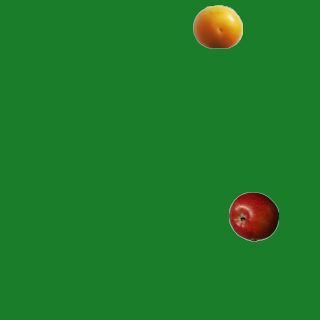Apple Braeburn: (228, 191, 278, 241)
Cherry Wax Yellow: (192, 1, 242, 51)
